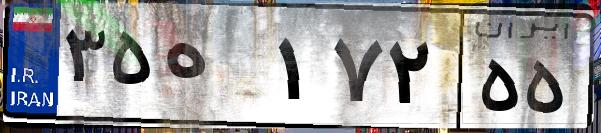1: (270, 28, 330, 110)
2: (385, 28, 445, 110)
3: (57, 26, 110, 100)
5: (475, 38, 525, 113), (525, 38, 570, 115), (110, 28, 158, 98)
7: (330, 28, 385, 110)
ه: (158, 20, 270, 120)
